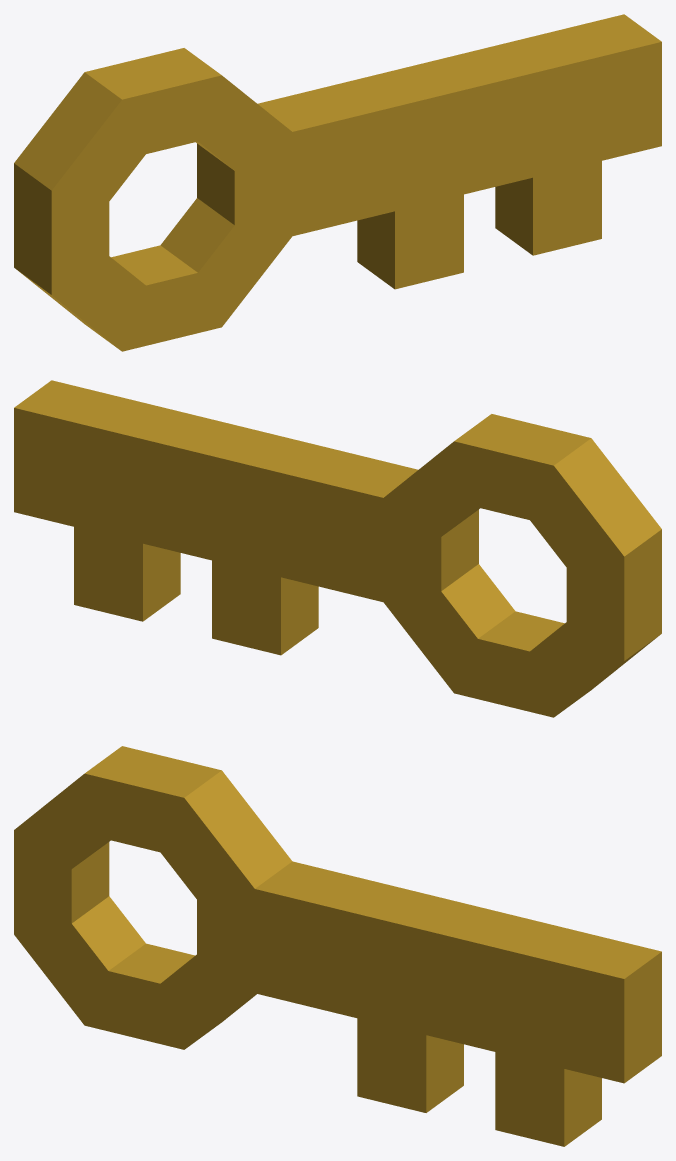
File: key.glb
3 renders of one model, top to bottom at view 1: azimuth 30°, elevation 25°; view 2: azimuth 150°, elevation 25°; view 3: azimuth 330°, elevation 25°, orthographic.
Visible parts, largest first — view 1: Key; view 2: Key; view 3: Key.
Boxes of the visible parts, <box> form: Key: <box>14,14,661,351</box>; Key: <box>14,380,661,717</box>; Key: <box>14,746,661,1146</box>.
Bounding box in the file's own units: 4.68 × 1.88 × 0.5.
